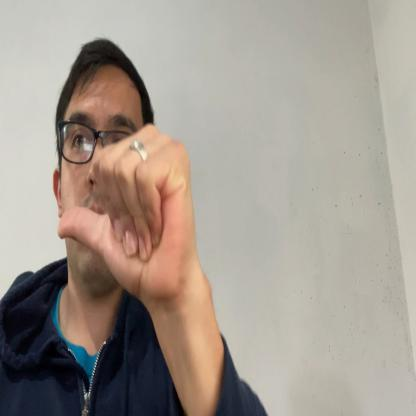A: (56, 124, 194, 301)
